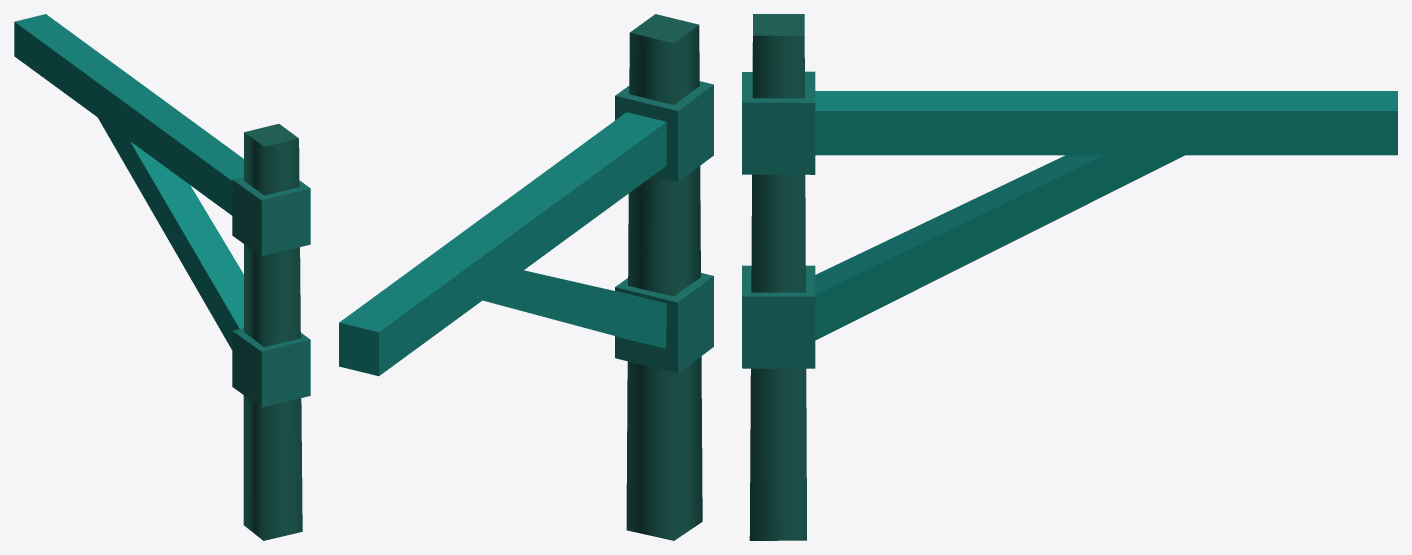
File: SignHolder_6_D.fbx
3 renders of one model, left to right at view 1: azimuth 30°, elevation 25°; view 2: azimuth 150°, elevation 25°; view 3: azimuth 270°, elevation 25°, orthographic. The views are drawn at different scales.
Visible parts, largest first — view 1: SignHolder_6_D; view 2: SignHolder_6_D; view 3: SignHolder_6_D.
Boxes of the visible parts, left/top/right/bottom form: SignHolder_6_D: left=14, top=14, right=310, bottom=540; SignHolder_6_D: left=339, top=14, right=713, bottom=540; SignHolder_6_D: left=742, top=14, right=1397, bottom=540.
Size of the model in its own units: 7.8 by 58.7 by 69.26.
